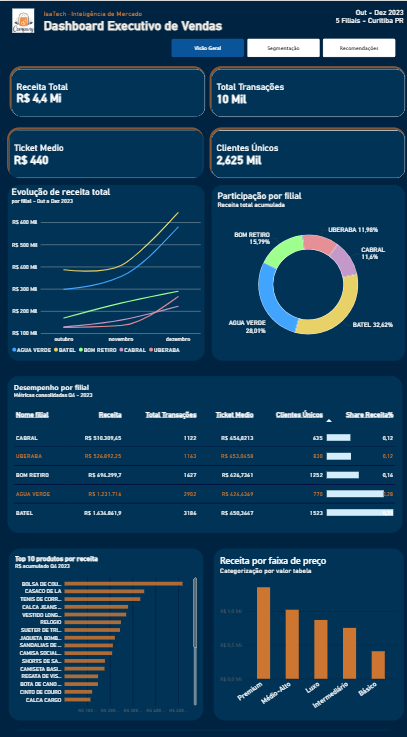

The page's visual inventory and layout, read from the dashboard file:
{"tool":"powerbi","page":{"name":"Visão Geral","canvas":[1100,2000],"ordinal":0},"visuals":[{"type":"cardVisual","fields":{"Data":["VENDAS.Medida"]},"box":[29.3,178.7,518.7,129.3],"z":0},{"type":"lineChart","title":"Evolução de receita total","fields":{"Category":["VENDAS.DATA_VENDA.Variation.Hierarquia de datas.Mês1"],"Series":["VENDAS.FILIAL"],"Y":["VENDAS.Receita total"]},"box":[21.1,488.9,526.7,470],"z":1000},{"type":"donutChart","title":"Participação por filial ","fields":{"Category":["VENDAS.FILIAL"],"Y":["VENDAS.Receita total"]},"box":[564.4,488.9,517.8,470],"z":2000},{"type":"clusteredColumnChart","title":"Receita por faixa de preço","fields":{"Category":["GERAL.CLASSIFICAÇÃO VALOR TABELA"],"Y":["Sum(GERAL.VALOR_VENDA_PRODUTO)"]},"box":[570,1458.6,507.1,458.6],"z":3000},{"type":"clusteredBarChart","title":"Top 10 produtos por receita","fields":{"Category":["GERAL.PRODUTO"],"Y":["Sum(GERAL.VALOR_VENDA_PRODUTO)"]},"box":[24.3,1458.6,518.6,458.6],"z":4000},{"type":"cardVisual","fields":{"Data":["Medidas.Clientes Unicos"]},"box":[564.5,342.2,518,130],"z":5000},{"type":"cardVisual","fields":{"Data":["Medidas.Total Transacoes"]},"box":[564.5,179.3,518,130],"z":6000},{"type":"tableEx","title":"Desempenho por filial","fields":{"Values":["FILIAIS.NOME_FILIAL","Medidas.Receita Total2","Medidas.Total Transacoes","Medidas.Ticket Medio","Medidas.Clientes Únicos","Medidas.Share Filial %"]},"box":[21.4,1000,1052.9,418.6],"z":7000},{"type":"textbox","title":"IsaTech · Inteligência de Mercado","box":[117.5,24.2,680,93.3],"z":8000},{"type":"shape","box":[45.7,1917.1,994.3,55.7],"z":9000},{"type":"textbox","box":[875.6,21.1,200,50],"z":10000},{"type":"cardVisual","fields":{"Data":["Medidas.Ticket Medio"]},"box":[22.7,344,520,129.3],"z":15000},{"type":"pageNavigator","box":[457.3,100,600,50.7],"z":15001},{"type":"image","box":[0,20.8,124.2,65],"z":15002}]}

Visuals, with their boxes in screenshot pixels (x1, y1, x2, y2), scaled from the page's 1100x2000 canvas onto the 407x737 screenshot:
cardVisual - VENDAS.Medida: locate(11, 66, 203, 113)
"Evolução de receita total" lineChart: locate(8, 180, 203, 353)
"Participação por filial " donutChart: locate(209, 180, 400, 353)
"Receita por faixa de preço" clusteredColumnChart: locate(211, 537, 399, 706)
"Top 10 produtos por receita" clusteredBarChart: locate(9, 537, 201, 706)
cardVisual - Medidas.Clientes Unicos: locate(209, 126, 401, 174)
cardVisual - Medidas.Total Transacoes: locate(209, 66, 401, 114)
"Desempenho por filial" tableEx: locate(8, 368, 397, 523)
"IsaTech · Inteligência de Mercado" textbox: locate(43, 9, 295, 43)
shape: locate(17, 706, 385, 727)
textbox: locate(324, 8, 398, 26)
cardVisual - Medidas.Ticket Medio: locate(8, 127, 201, 174)
pageNavigator: locate(169, 37, 391, 56)
image: locate(0, 8, 46, 32)
